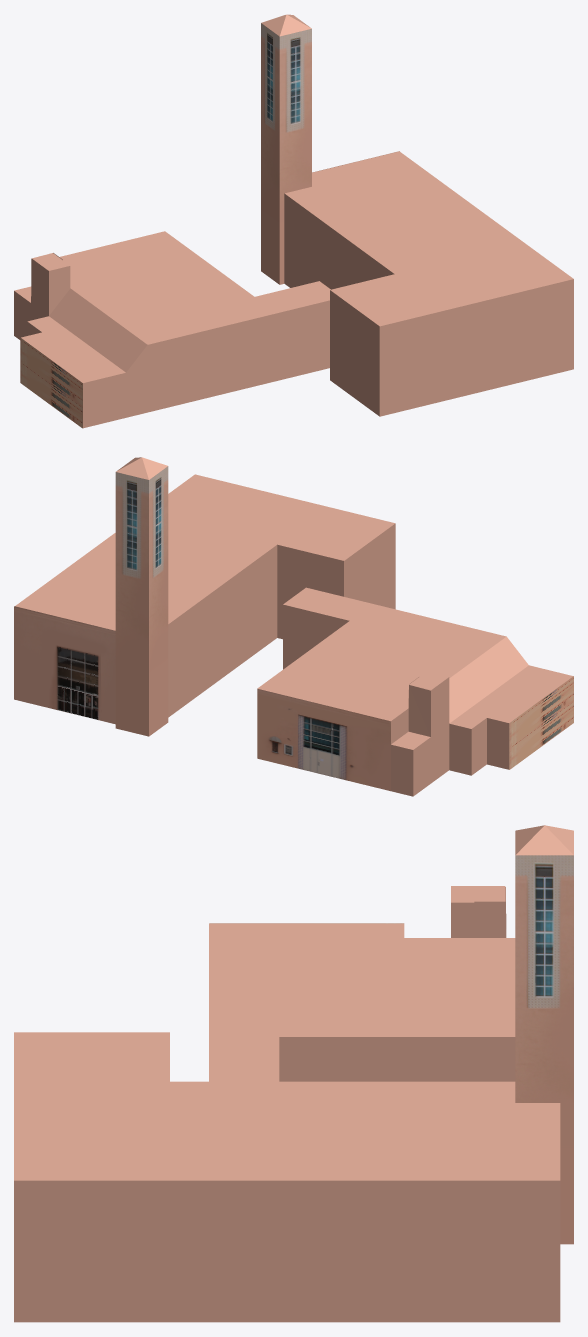
File: Tower.FBX
3 renders of one model, top to bottom at view 1: azimuth 30°, elevation 25°; view 2: azimuth 150°, elevation 25°; view 3: azimuth 270°, elevation 25°, orthographic. The views are drawn at different scales.
Visible parts, largest first — view 1: Box001, Box003, Box002, Plane002, Pyramid001; view 2: Box003, Box001, Box002, Plane001, Plane002, Pyramid001; view 3: Box001, Box003, Box002, Pyramid001.
Part boxes in pixels (bbox=[...]): Box001: bbox=[284, 151, 573, 416]; Box003: bbox=[14, 231, 330, 428]; Box002: bbox=[261, 23, 311, 284]; Plane002: bbox=[20, 338, 82, 428]; Pyramid001: bbox=[261, 14, 311, 36]; Box003: bbox=[257, 587, 573, 796]; Box001: bbox=[15, 474, 395, 717]; Box002: bbox=[115, 466, 168, 736]; Plane001: bbox=[14, 606, 115, 724]; Plane002: bbox=[509, 676, 573, 769]; Pyramid001: bbox=[116, 457, 167, 479]; Box001: bbox=[14, 1032, 560, 1322]; Box003: bbox=[209, 886, 515, 1081]; Box002: bbox=[515, 855, 573, 1244]; Pyramid001: bbox=[515, 825, 573, 855].
Size of the model in its own units: 99.6 by 57.5 by 71.75.
